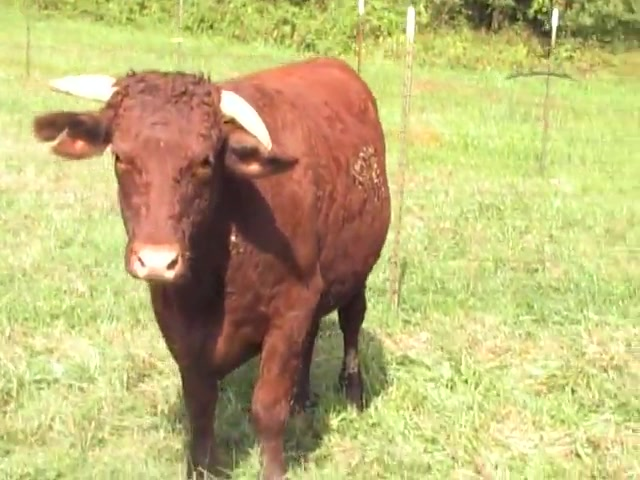cow: (32, 55, 393, 480)
